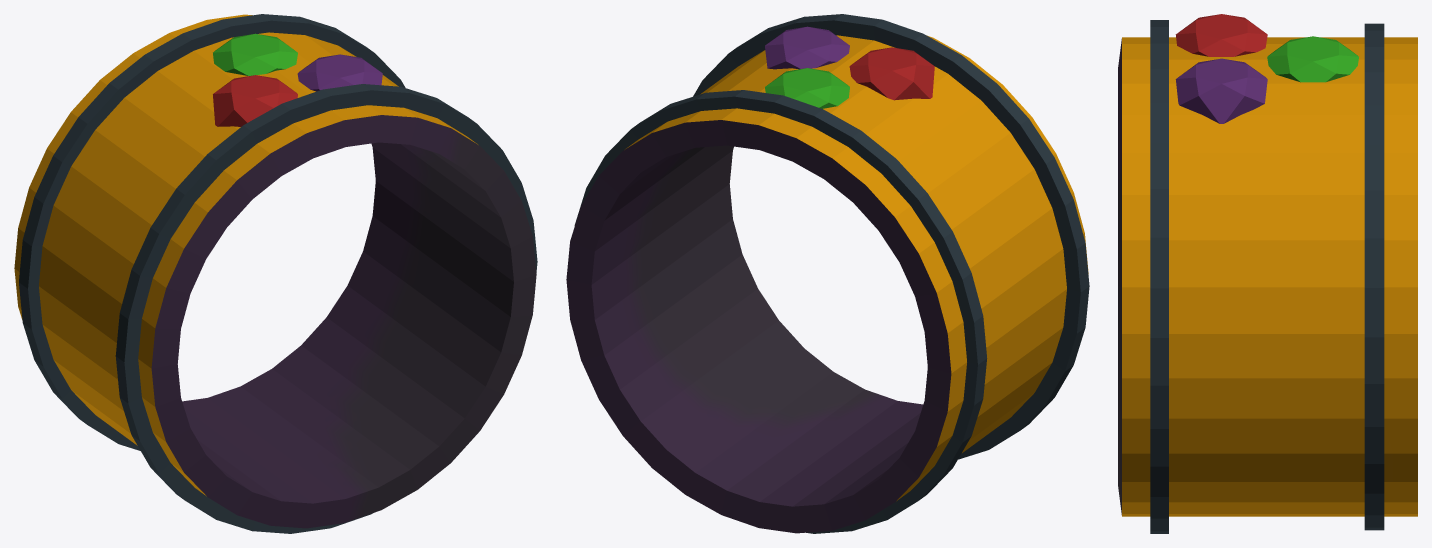
Rendered from Anillo de mago .fbx.
3 renders of one model, left to right at view 1: azimuth 30°, elevation 25°; view 2: azimuth 150°, elevation 25°; view 3: azimuth 270°, elevation 25°, orthographic. The views are drawn at different scales.
Visible parts, largest first — view 1: Circle.001; view 2: Circle.001; view 3: Circle.001.
Part boxes in pixels (<box>): Circle.001: <box>14,14,537,533</box>; Circle.001: <box>566,14,1089,533</box>; Circle.001: <box>1118,14,1417,533</box>.
Size of the model in its own units: 7.09 by 7.09 by 4.13.
